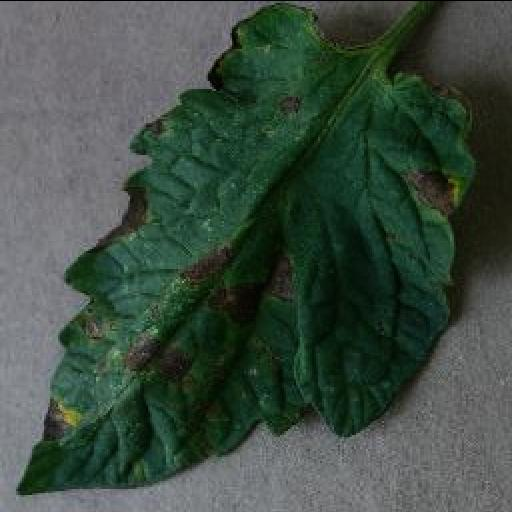disease_tomato: (17, 0, 475, 496)
